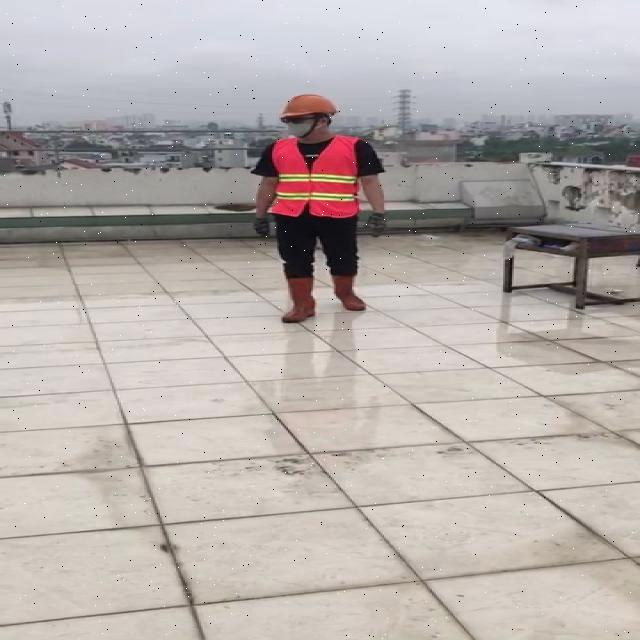Hard_hat: (276, 91, 343, 126)
Person: (238, 89, 387, 327)
Vest: (267, 136, 360, 223)
